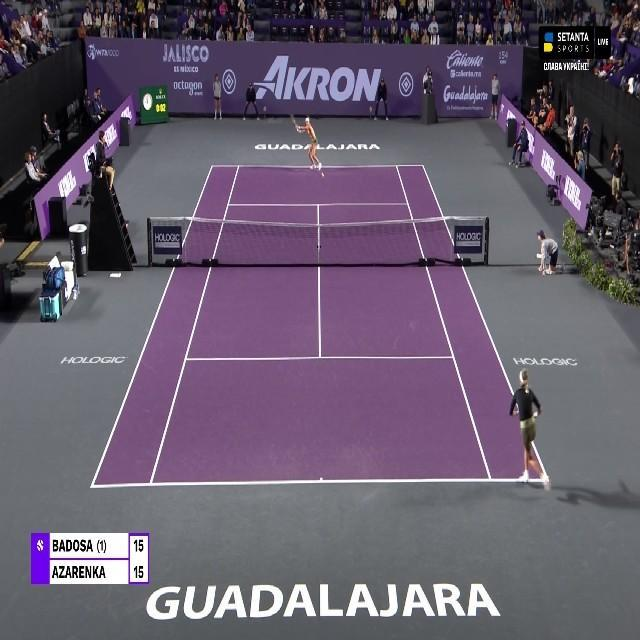left side: (396, 166, 548, 481), (91, 166, 239, 487)
player: (507, 368, 551, 488), (294, 115, 324, 170)
